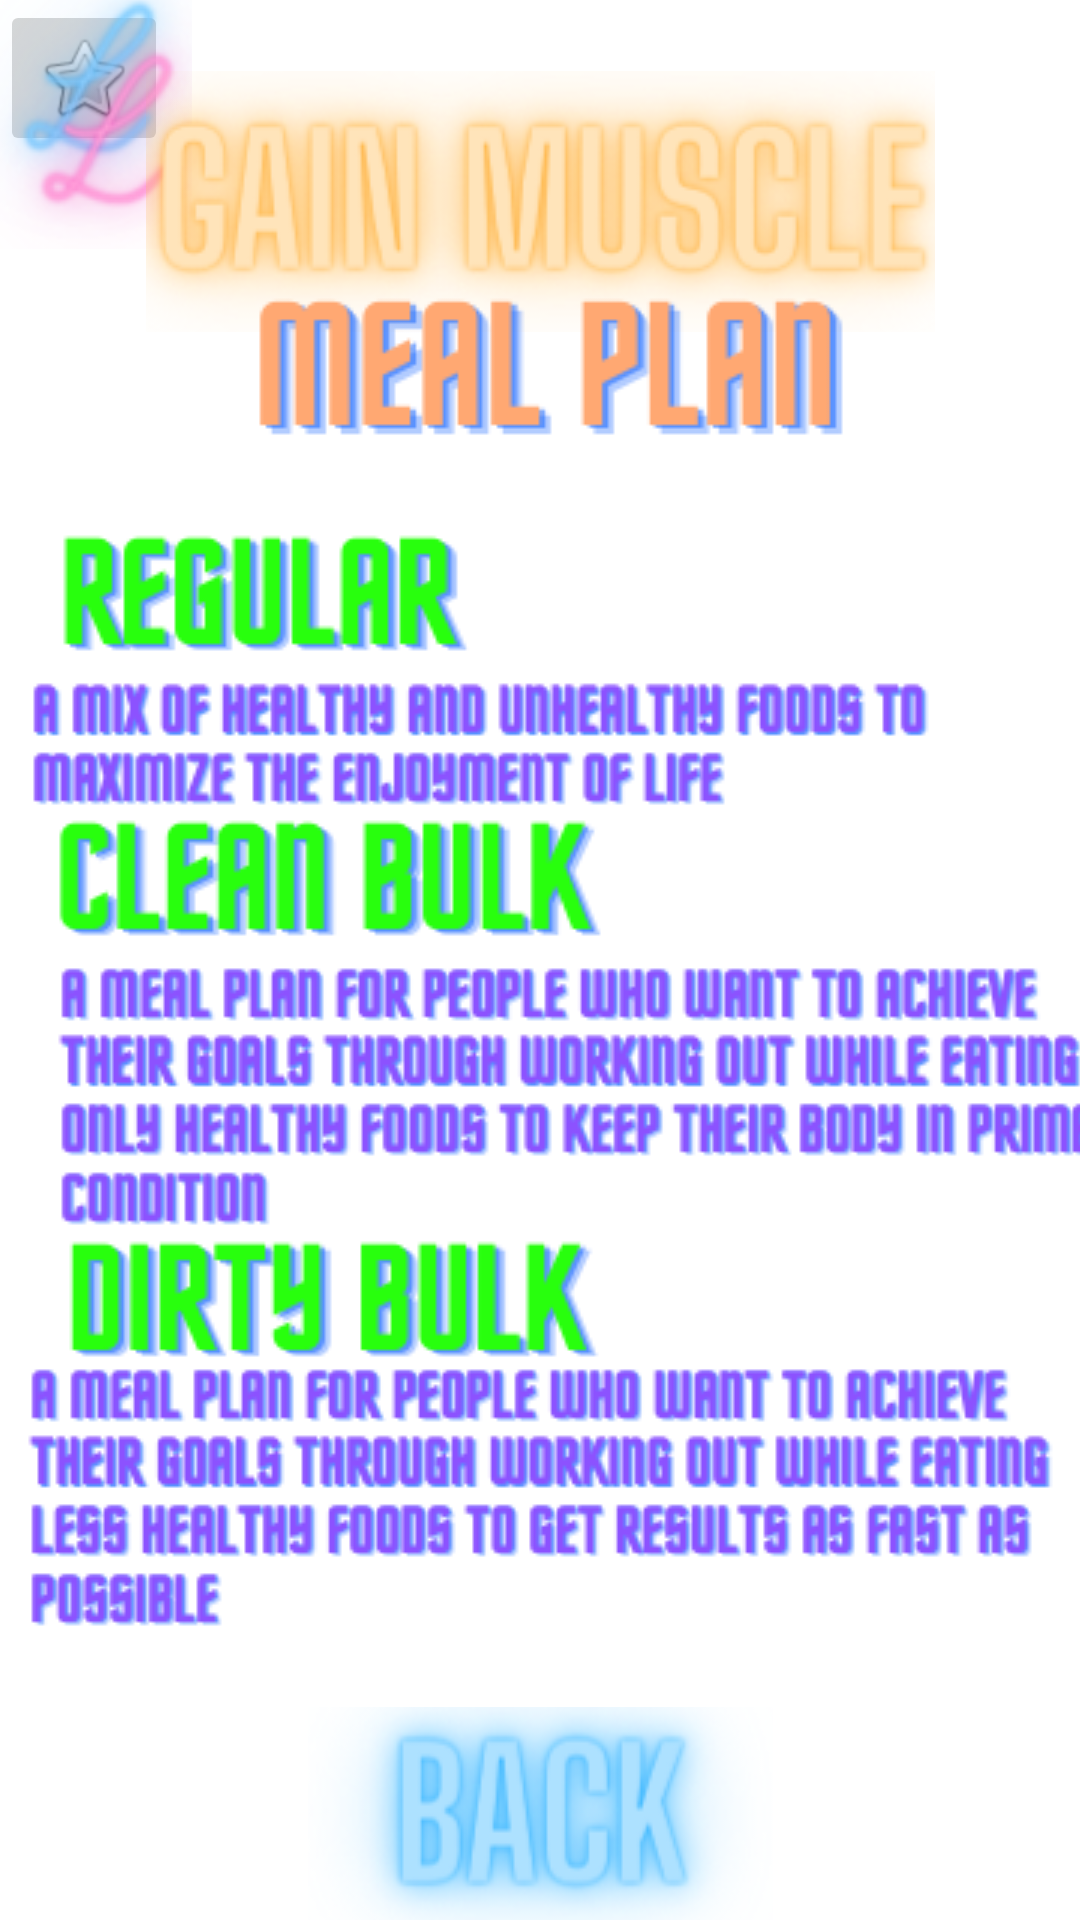

Icon click points for this 1080px×1920px phone screenshot, format point (x, y):
star: point (84, 78)
